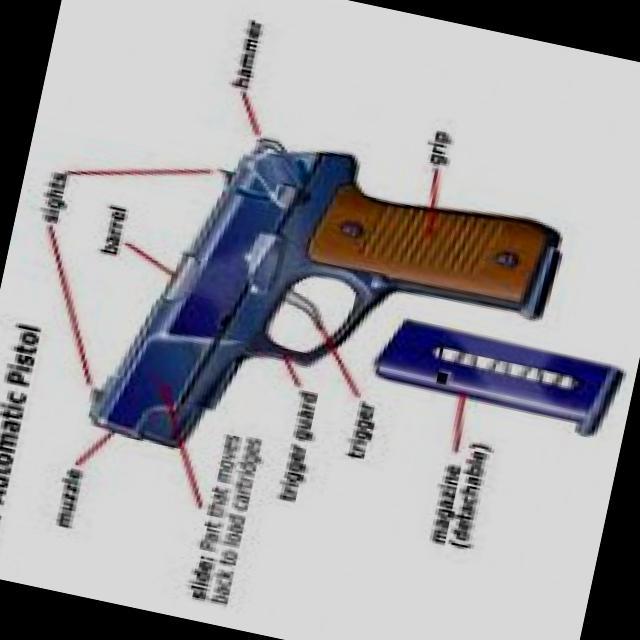handgun: (73, 110, 580, 533)
